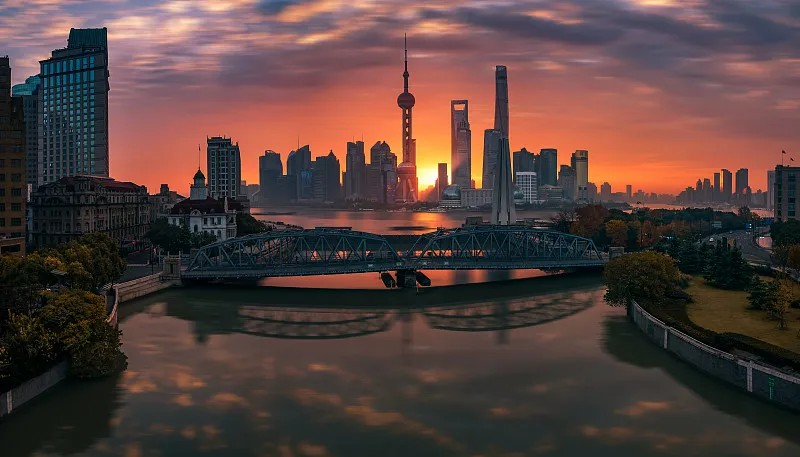Oriental: (396, 32, 417, 200)
